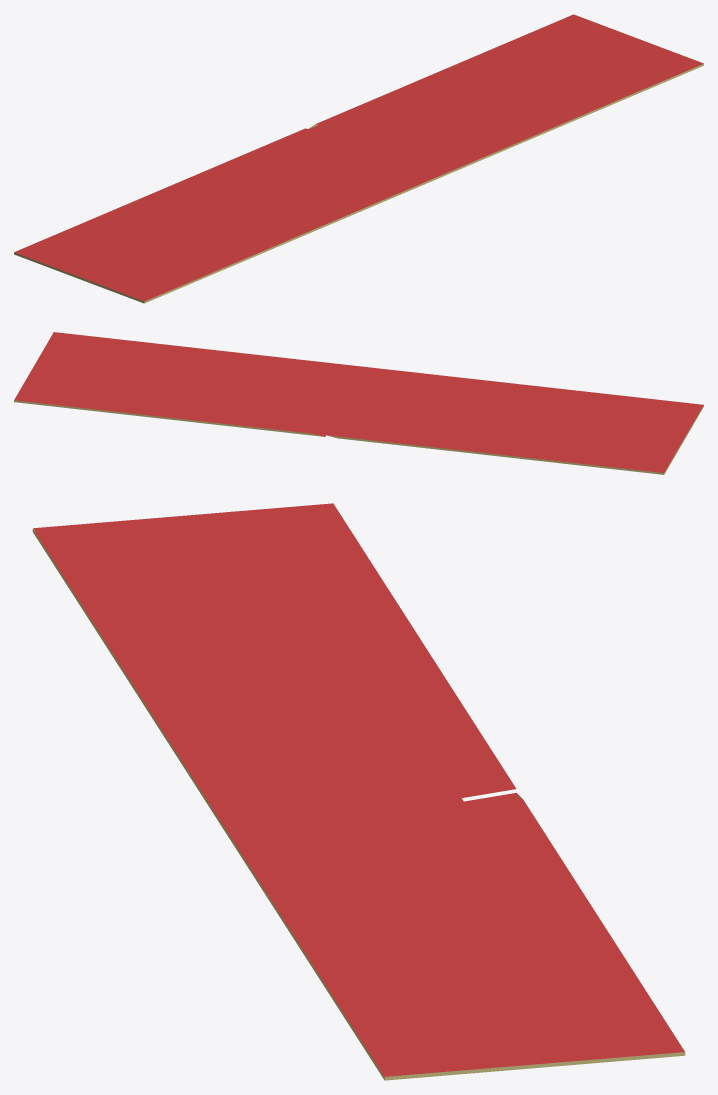
3 views of the same model, one above another, from view 1: azimuth 30°, elevation 25°; view 2: azimuth 150°, elevation 25°; view 3: azimuth 270°, elevation 25° (orthographic). The views are drawn at different scales.
Bounding box in the file's own units: 33.49 × 15.84 × 0.355.
